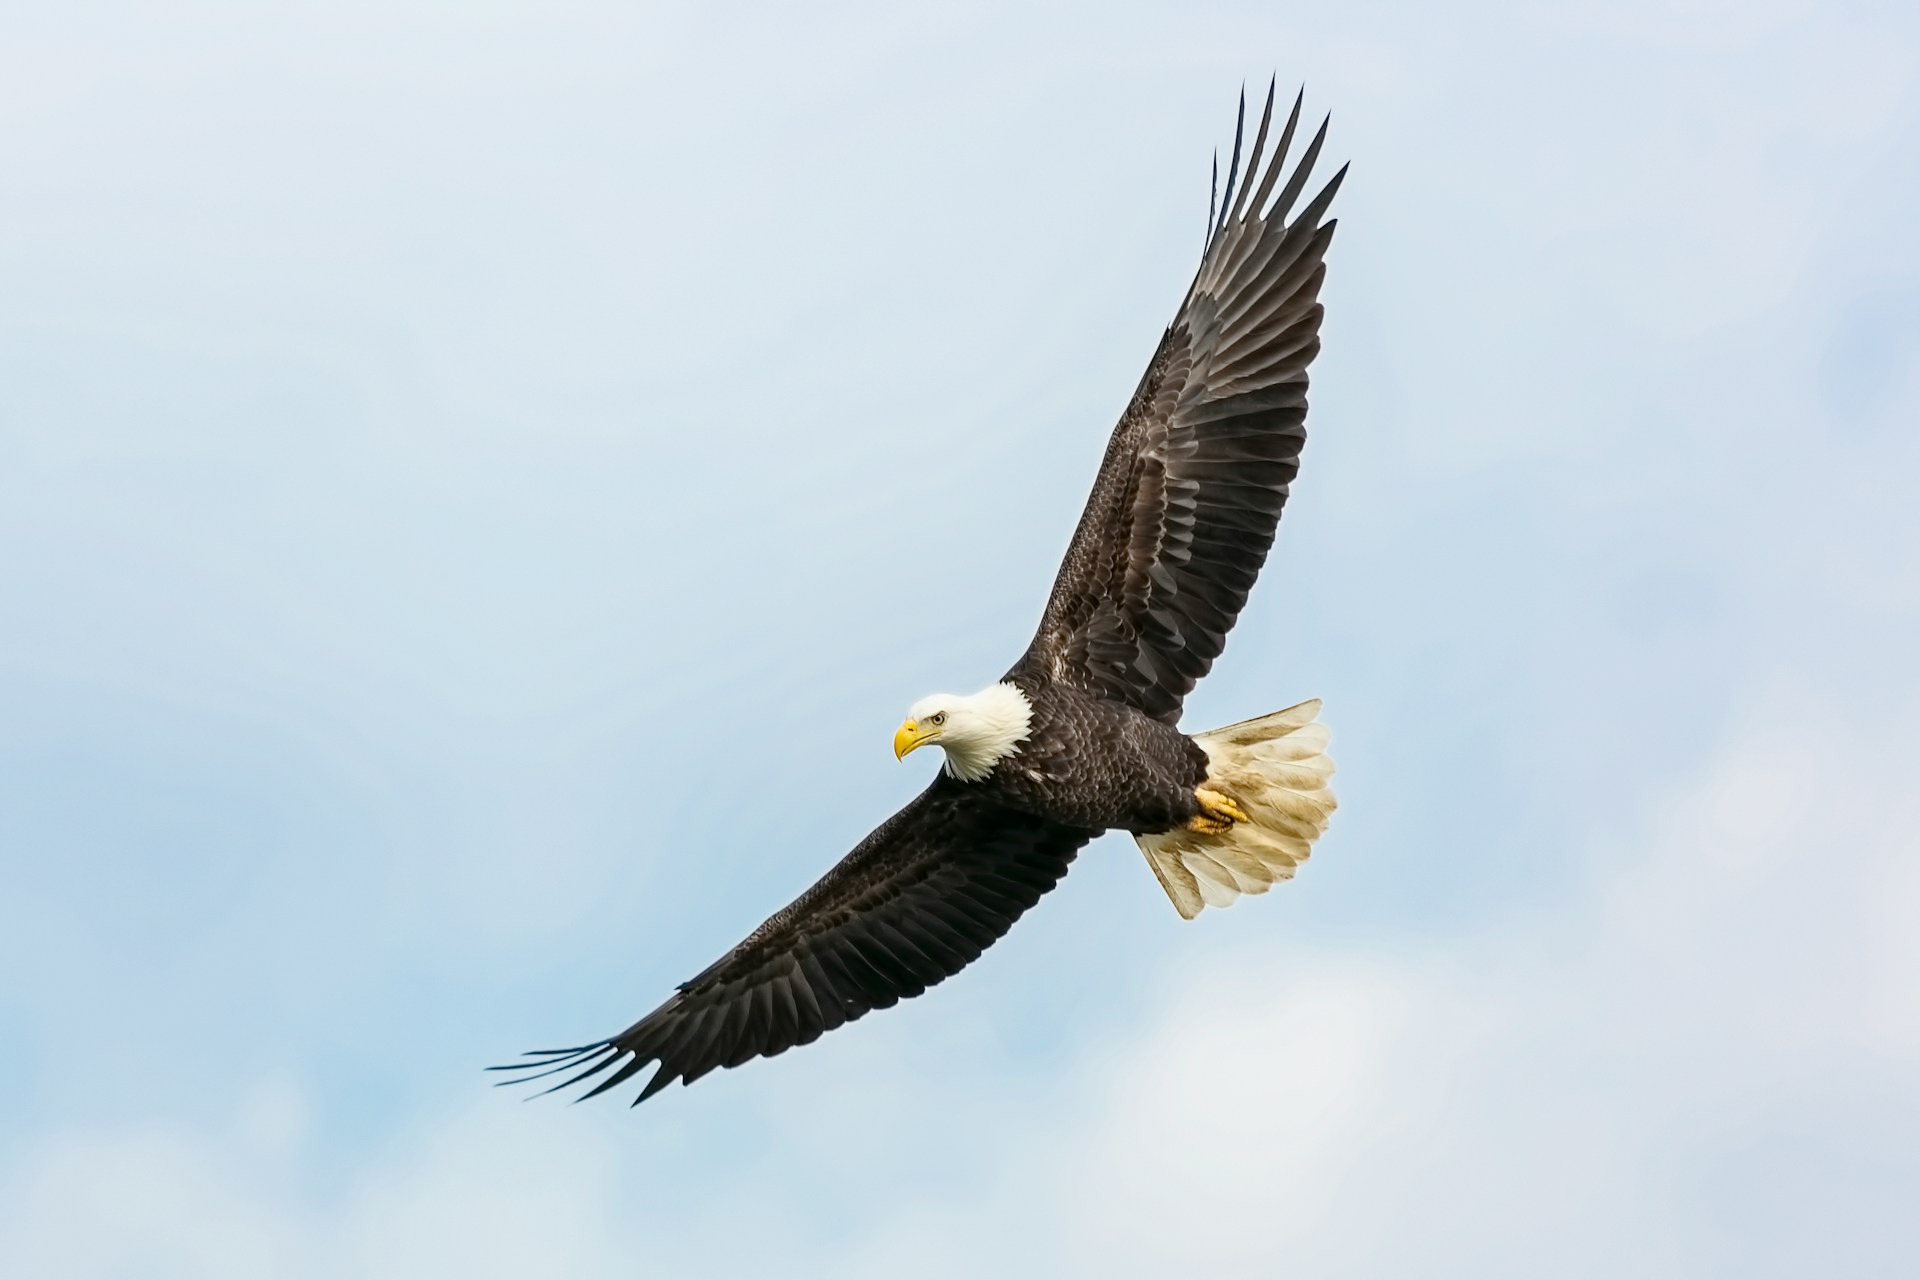eagle: (474, 71, 1419, 1114)
